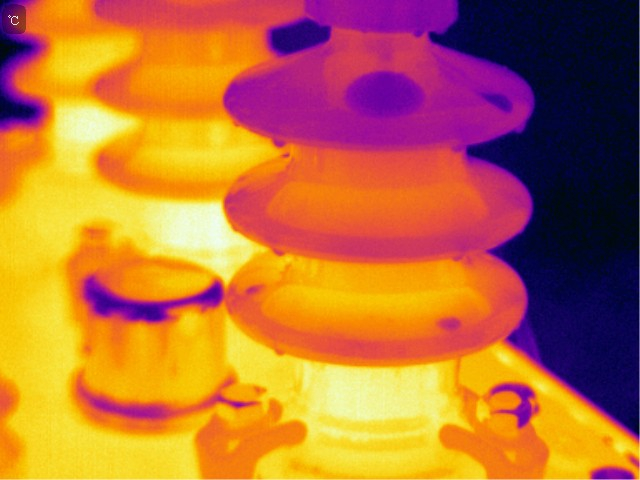Water: (345, 68, 428, 120), (474, 92, 516, 114), (436, 315, 462, 333), (269, 247, 291, 258), (269, 136, 289, 148), (272, 346, 287, 359), (410, 27, 425, 38)
